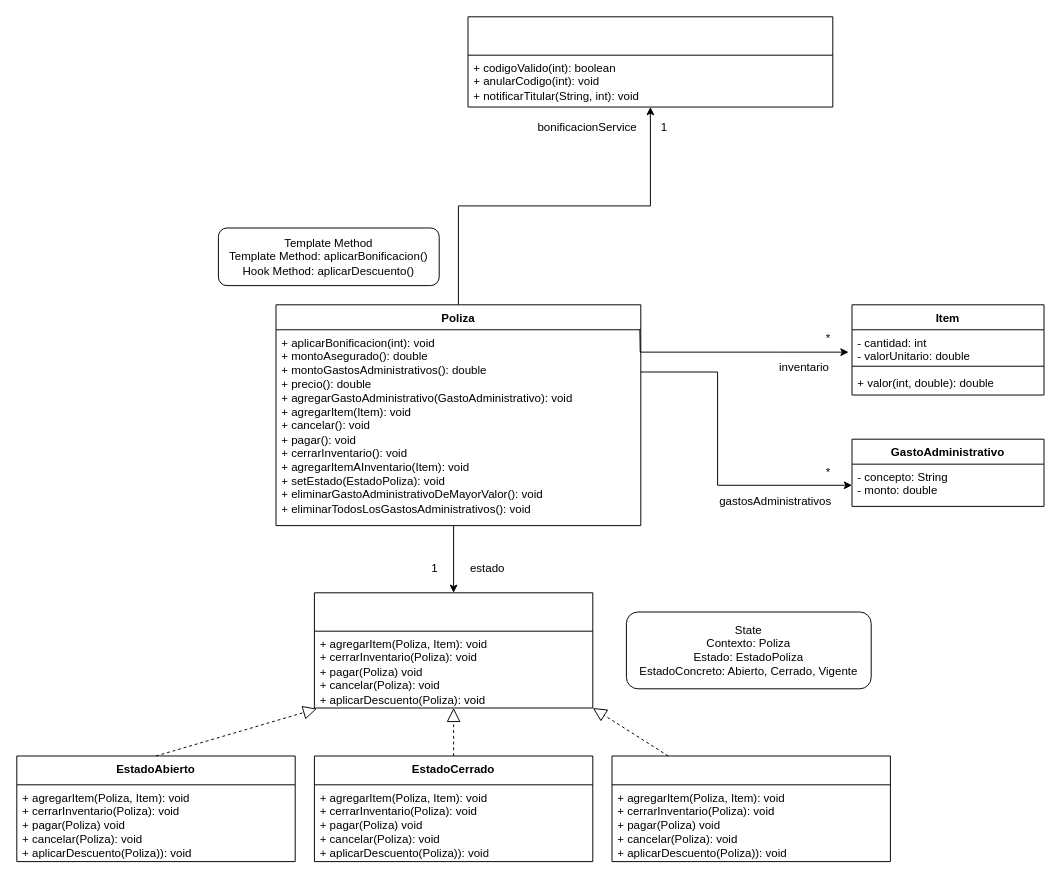
Image size: 1061x881. Some labels were removed from this diagram. Each missing label, with the box of its shape:
<<Interface>> BonificacionService: (467, 16, 833, 107)
<<Interfaz>> EstadoPoliza: (313, 592, 593, 708)
EstadoVigente: (611, 755, 890, 862)
